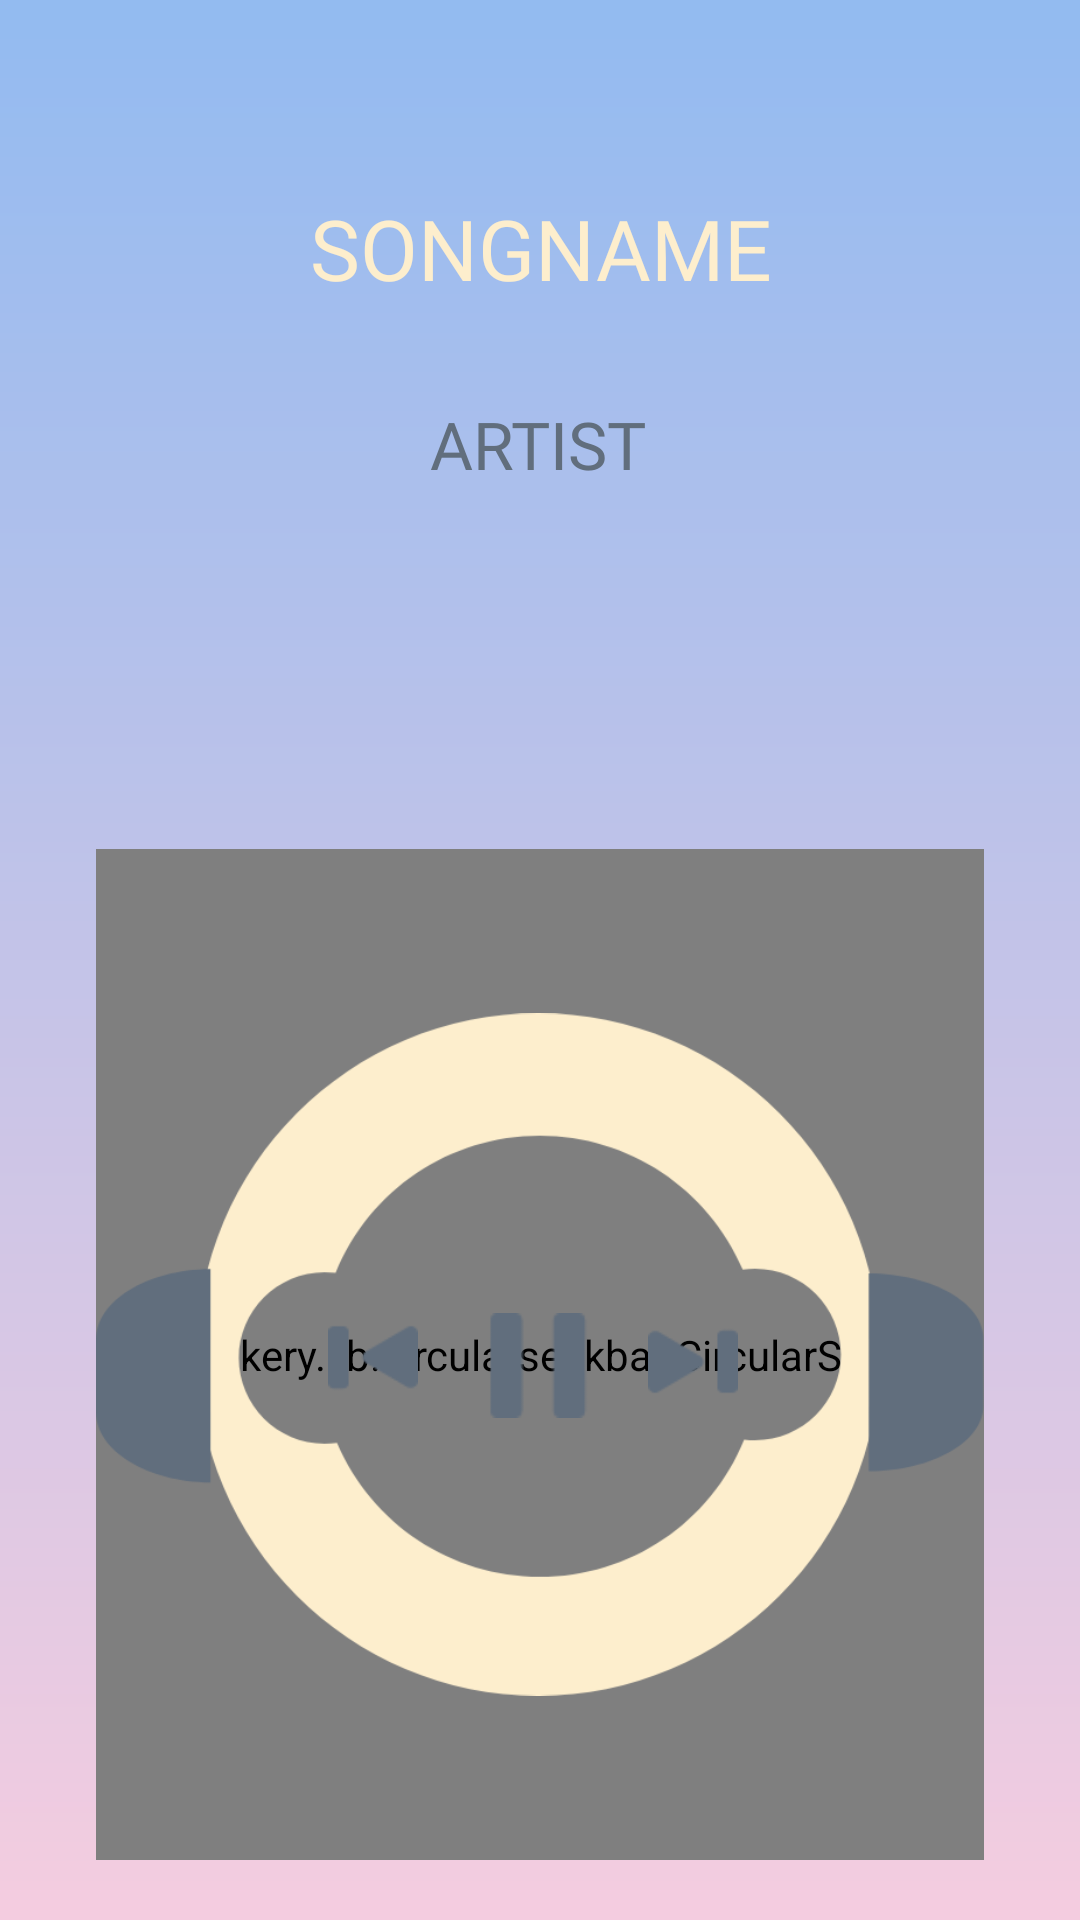

Where icons sit on this 1080px x 1920px app screen, as (x1, y1, x2, y2):
pause: (484, 1313, 584, 1418)
